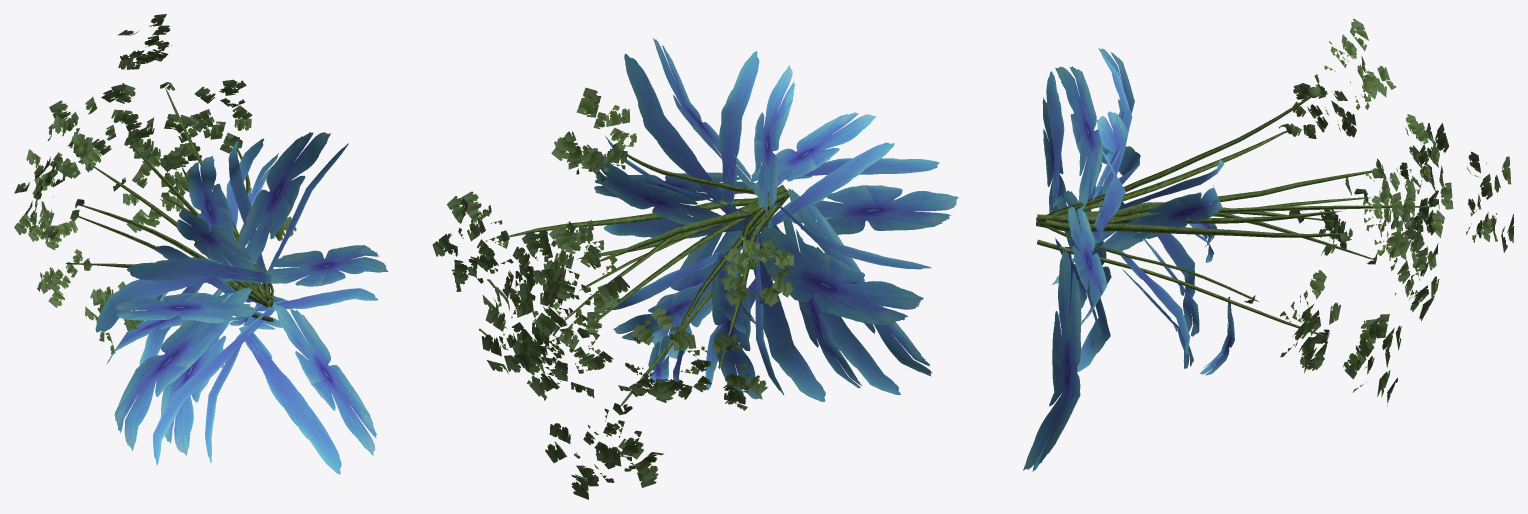
File: plant1.FBX
3 views of the same model, side by side, from view 1: azimuth 30°, elevation 25°; view 2: azimuth 150°, elevation 25°; view 3: azimuth 270°, elevation 25° (orthographic). The views are drawn at different scales.
Visible parts, largest first — view 1: plant1_LOD0; view 2: plant1_LOD0; view 3: plant1_LOD0.
Boxes of the visible parts, x1=… form: plant1_LOD0: x1=14, y1=14, x2=388, y2=474; plant1_LOD0: x1=432, y1=38, x2=958, y2=499; plant1_LOD0: x1=1023, y1=18, x2=1513, y2=471.
Size of the model in its own units: 54.56 by 62.42 by 61.38.
